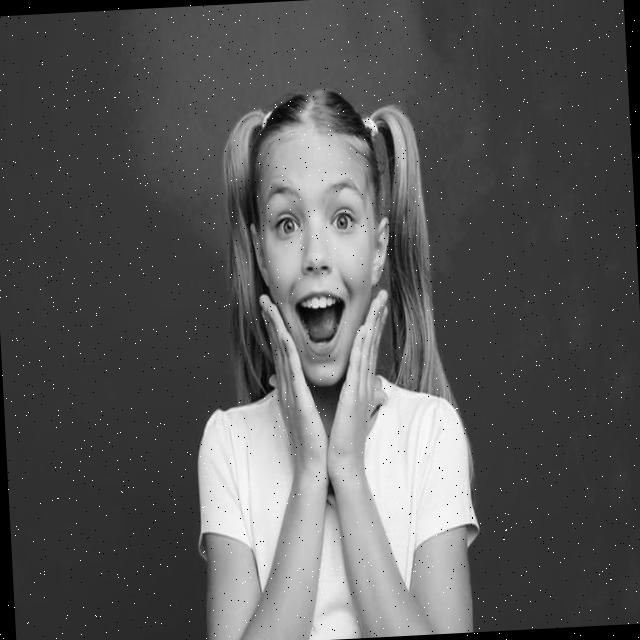Surprised: (254, 126, 385, 388)
